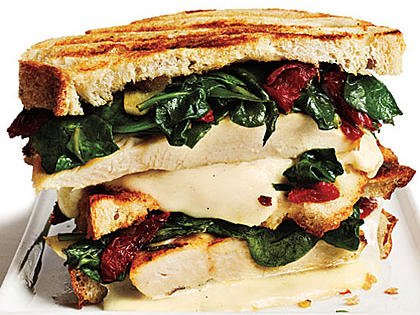soup: (14, 7, 419, 304)
